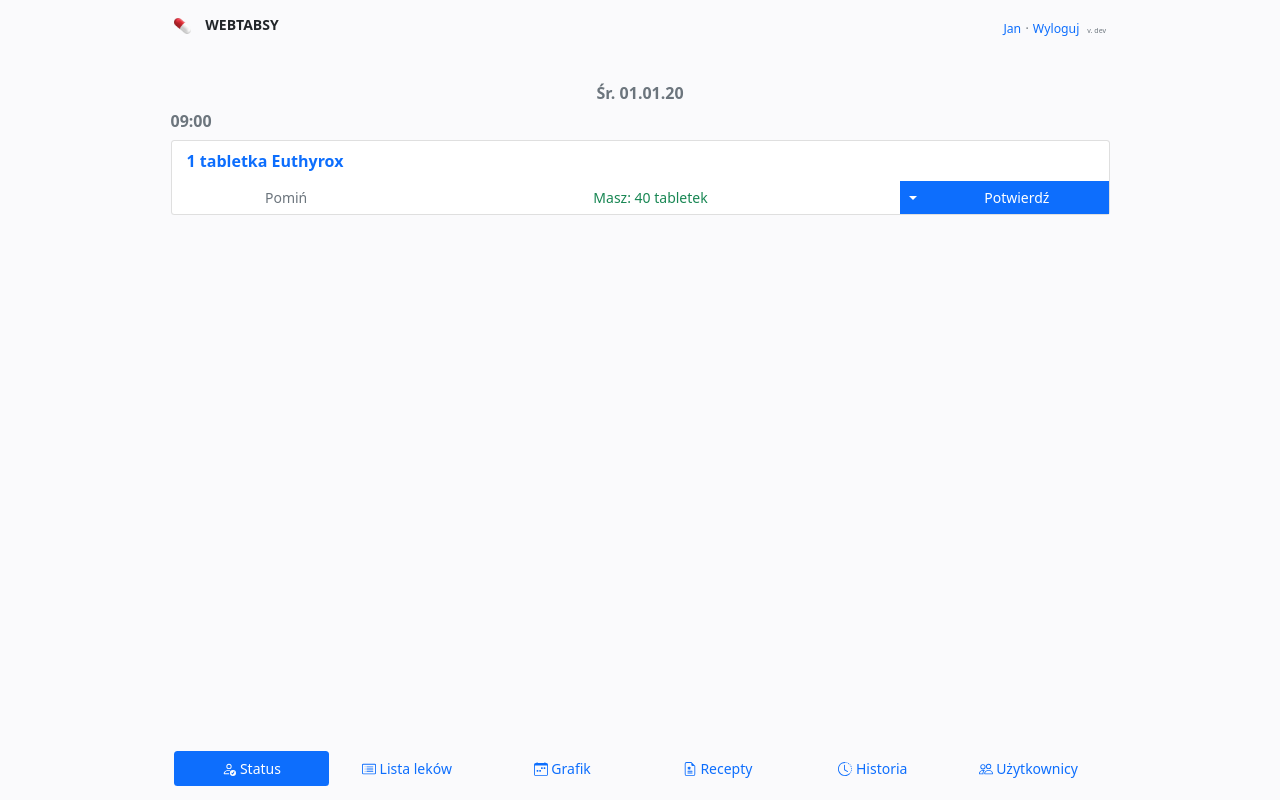
Test case: clicking a medicine on Status opens its expanded card on the medicine list
Click the button "1 tabletka Euthyrox".
click(265, 161)  # box [186,148,344,174]
(page scrolled)
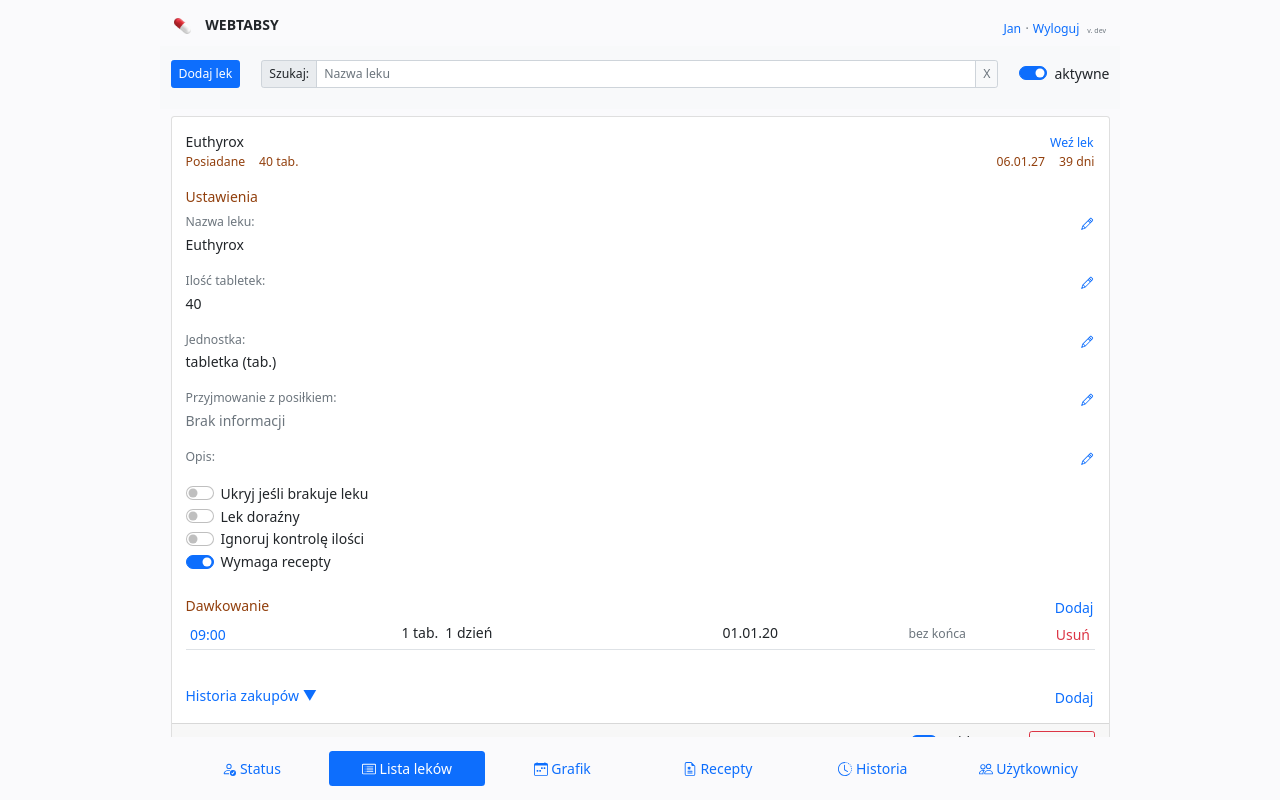
expect the text "Ustawienia" is shown: met, box [186,187,258,206]
